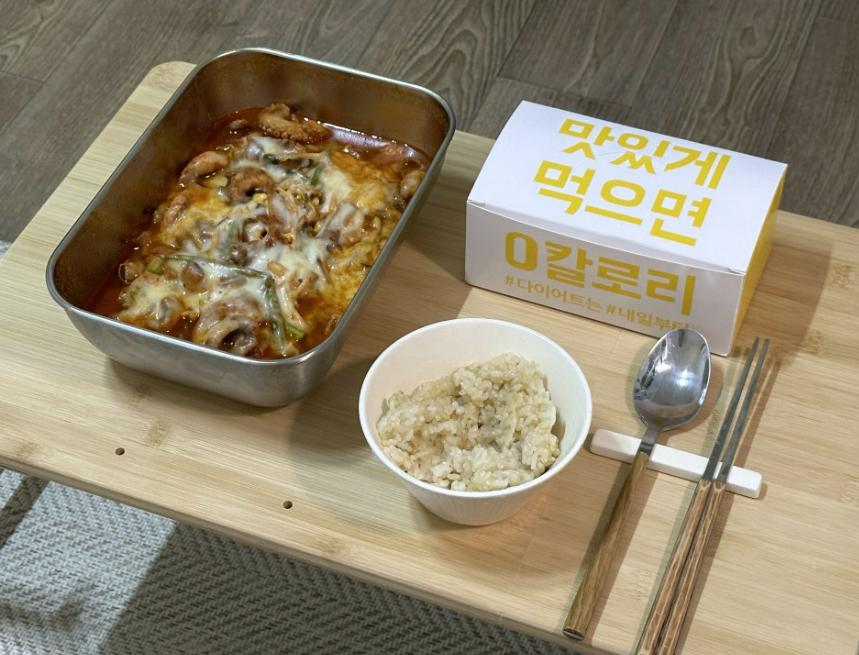Lunch Box: (47, 48, 454, 406), (464, 101, 786, 354), (358, 318, 591, 524)
